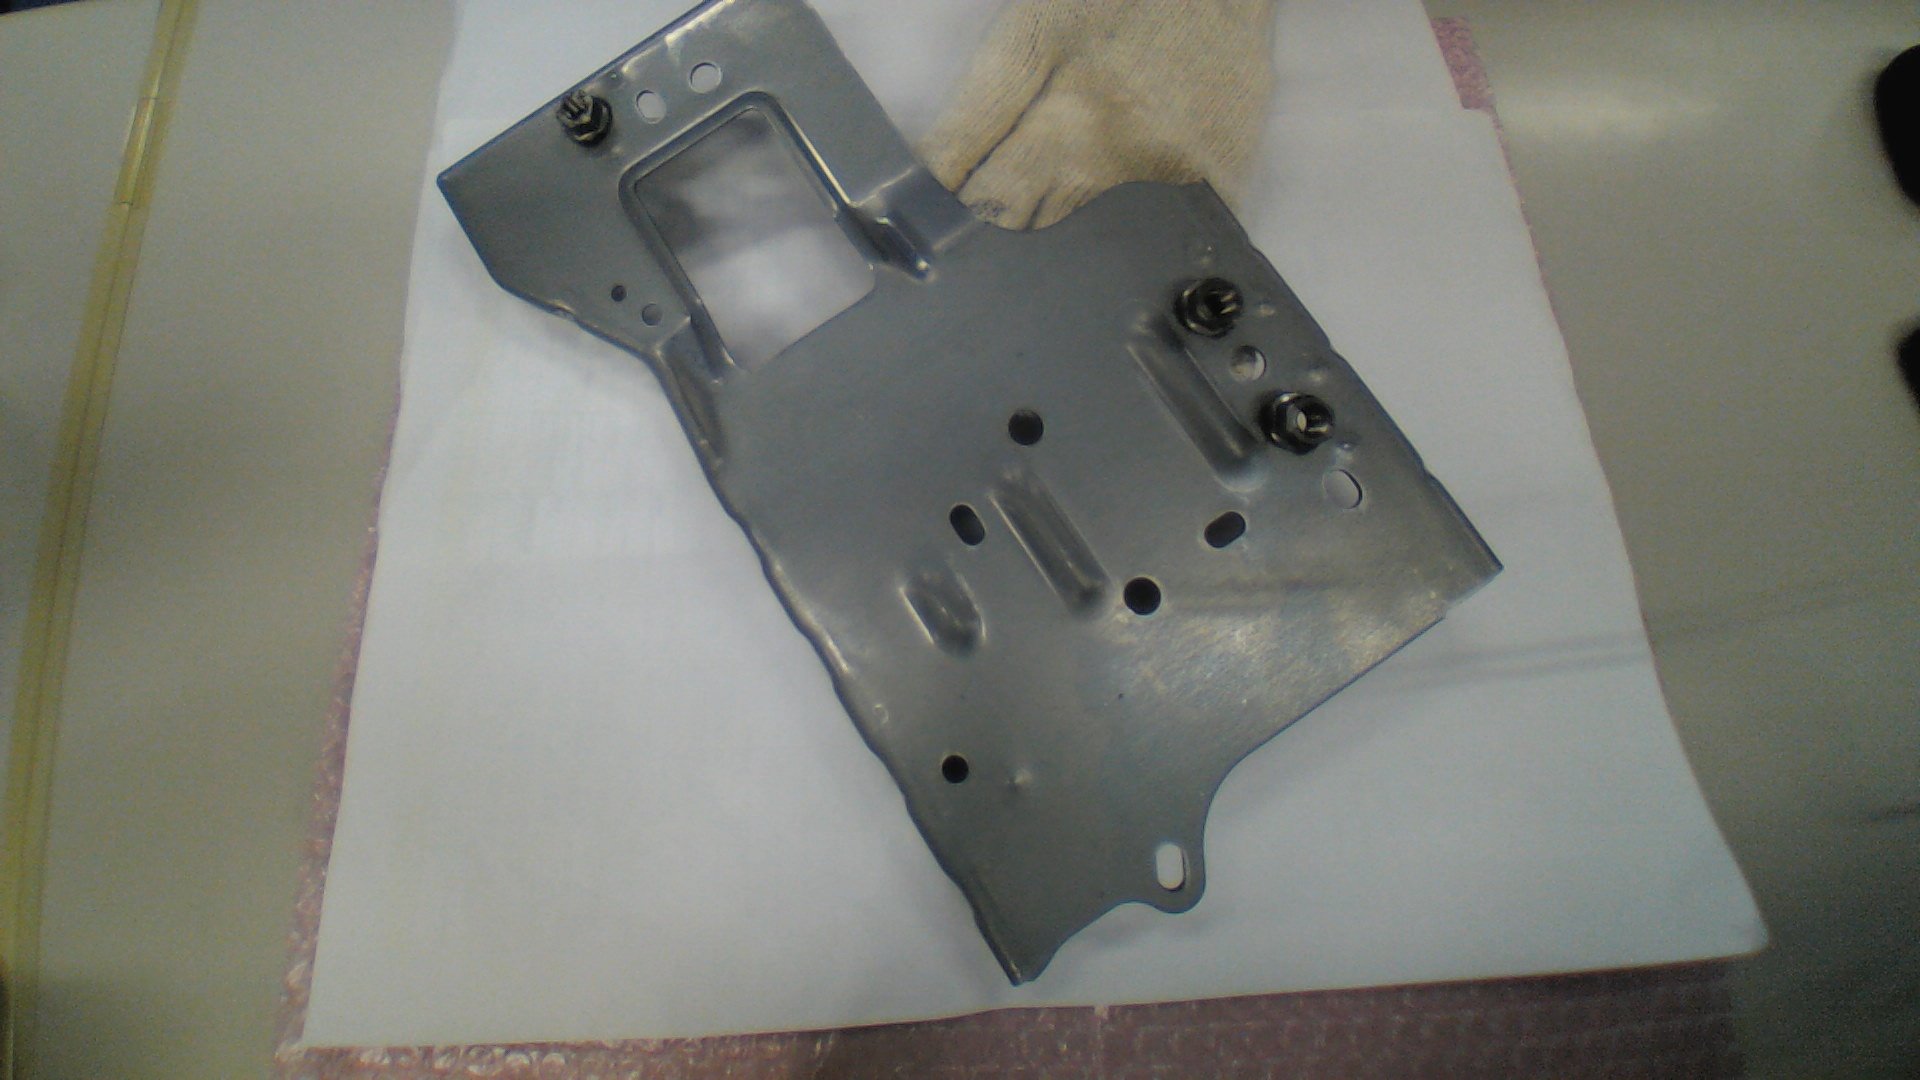dog: (1265, 388, 1335, 458), (1178, 277, 1245, 340), (556, 88, 615, 150)
